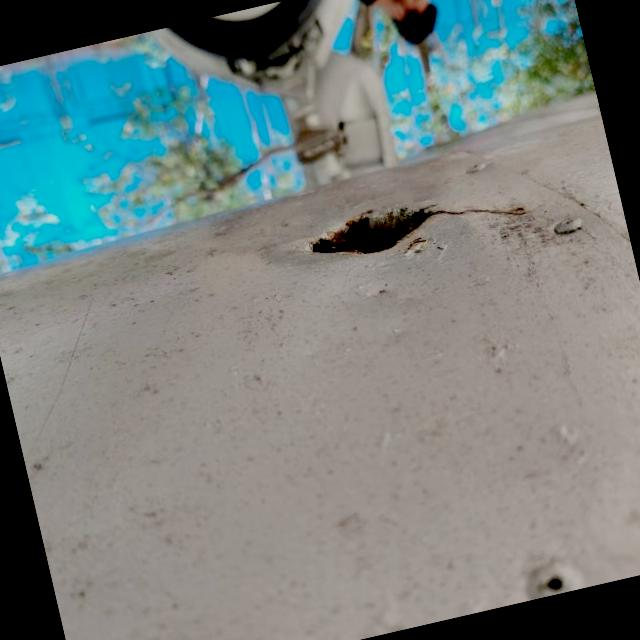crack: (282, 156, 548, 292)
